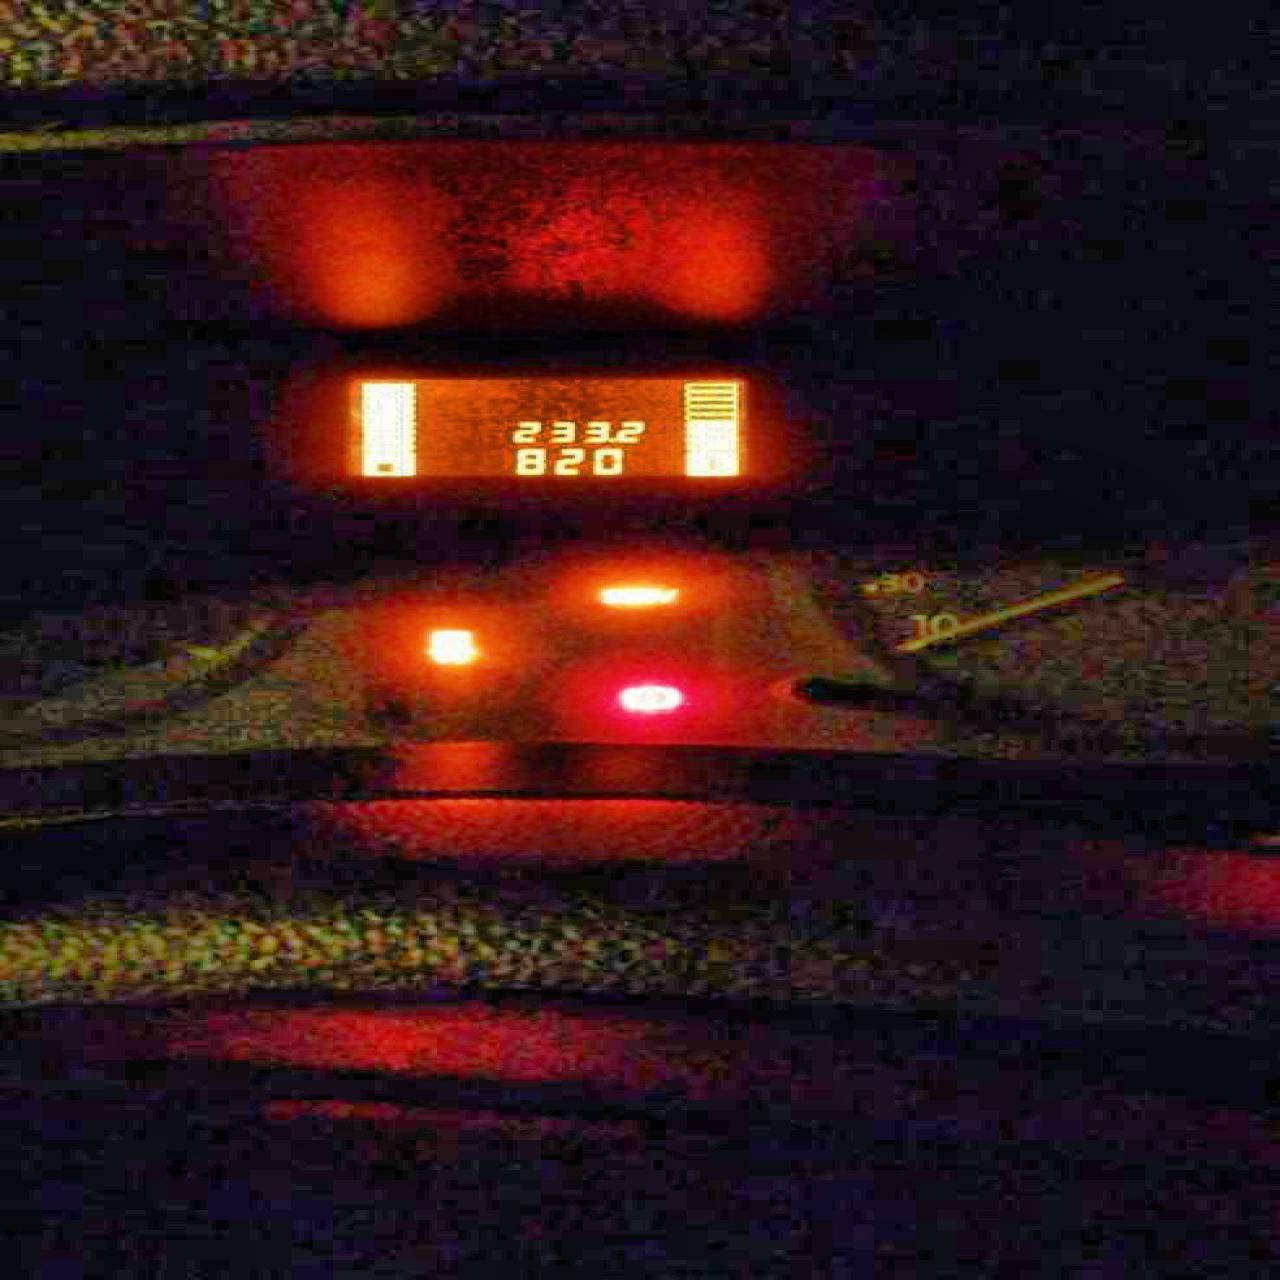-: (604, 436, 614, 443)
0: (588, 445, 622, 475)
2: (551, 445, 583, 475), (508, 420, 542, 442), (612, 420, 642, 442)
3: (544, 420, 576, 442), (580, 420, 608, 442)
8: (512, 445, 546, 475)
odometer: (339, 374, 755, 478)
